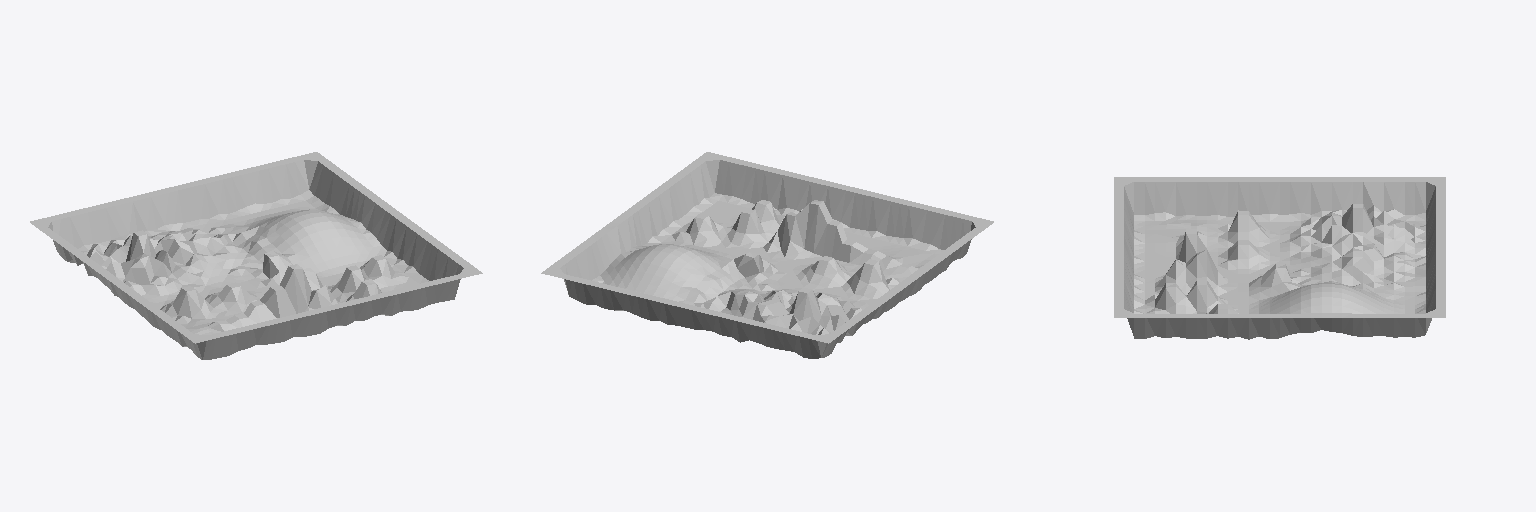
The model's file is Ground.obj.
3 views of the same model, side by side, from view 1: azimuth 30°, elevation 25°; view 2: azimuth 150°, elevation 25°; view 3: azimuth 270°, elevation 25° (orthographic).
Parts seen in each view (by area): view 1: Plane.001; view 2: Plane.001; view 3: Plane.001.
Part boxes in pixels (bbox=[...]): Plane.001: bbox=[30, 152, 482, 359]; Plane.001: bbox=[541, 152, 993, 358]; Plane.001: bbox=[1114, 177, 1445, 339].
Bounding box in the file's own units: 77.15 × 11.64 × 77.15.